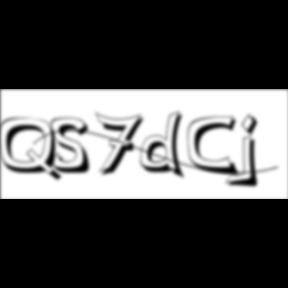7: (94, 111, 150, 179)
C: (188, 115, 242, 178)
Q: (0, 117, 66, 184)
S: (51, 117, 97, 176)
d: (141, 110, 191, 182)
j: (238, 113, 266, 191)
